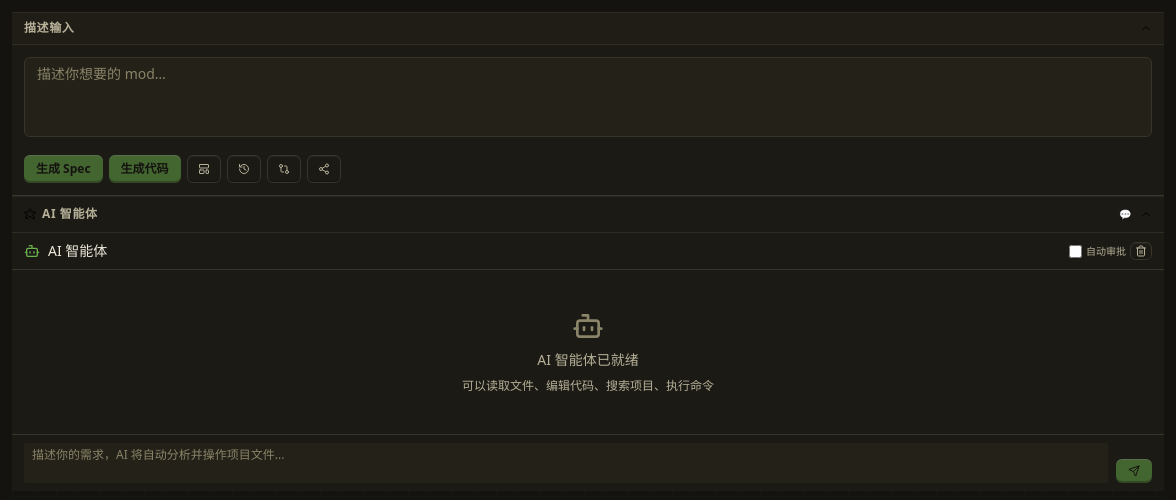
Test: AgentPanel › 点击模式切换按钮切换到 chat 模式，标题变为「AI 助手」
The image size is (1176, 500).
Note: 模式切换按钮：title 属性提示当前可切换的目标
Click the button titled "切换到聊天模式" at point(1125, 214), box [1115, 204, 1136, 224]
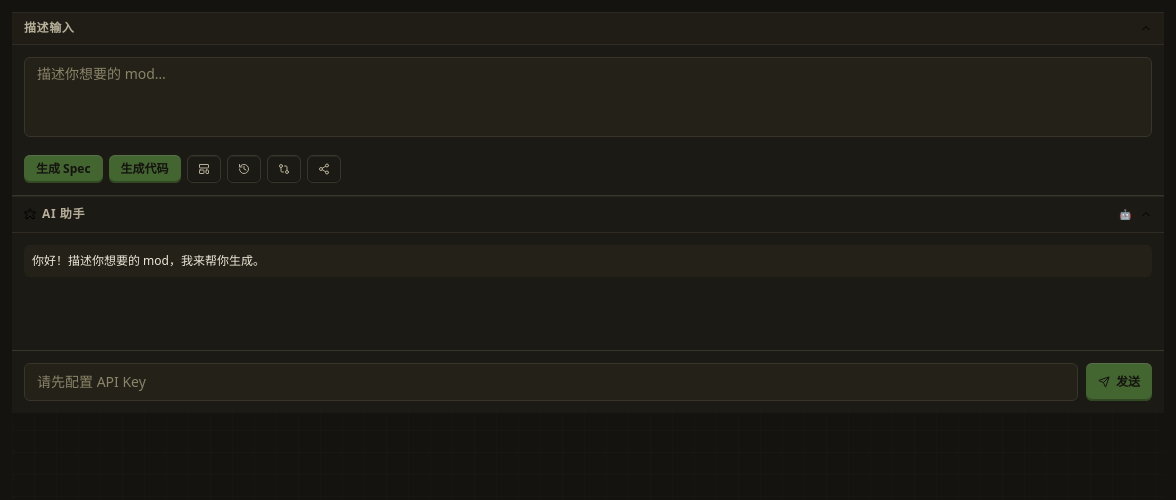
Result: the text "AI 助手" is shown at [24, 206, 85, 222]
